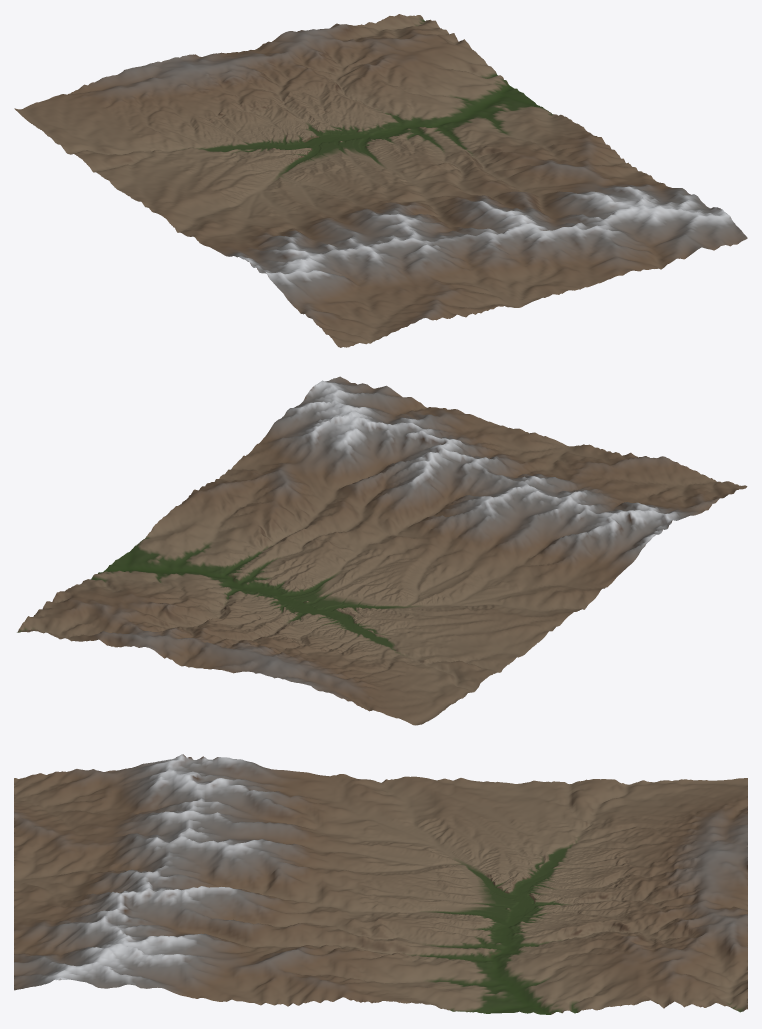
Rendered from terrain.glb.
3 renders of one model, top to bottom at view 1: azimuth 30°, elevation 25°; view 2: azimuth 150°, elevation 25°; view 3: azimuth 270°, elevation 25°, orthographic. The views are drawn at different scales.
Parts seen in each view (by area): view 1: TerrainExport; view 2: TerrainExport; view 3: TerrainExport.
Boxes of the visible parts, left/top/right/bottom form: TerrainExport: left=14, top=14, right=747, bottom=347; TerrainExport: left=17, top=376, right=747, bottom=725; TerrainExport: left=14, top=754, right=747, bottom=1014.
Size of the model in its own units: 31500 by 2589 by 43680.
